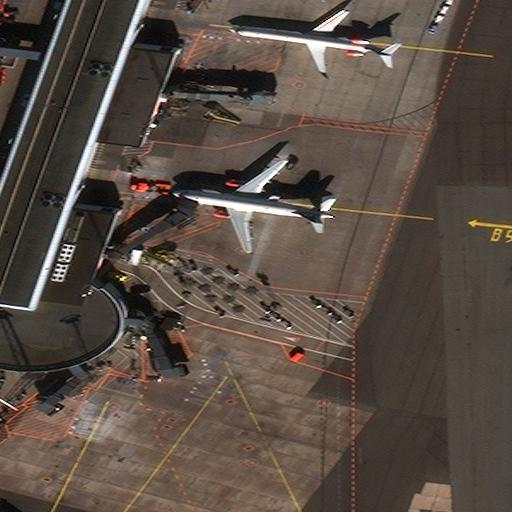Medium Civil Transport: (172, 160, 333, 252), (229, 9, 393, 71)
